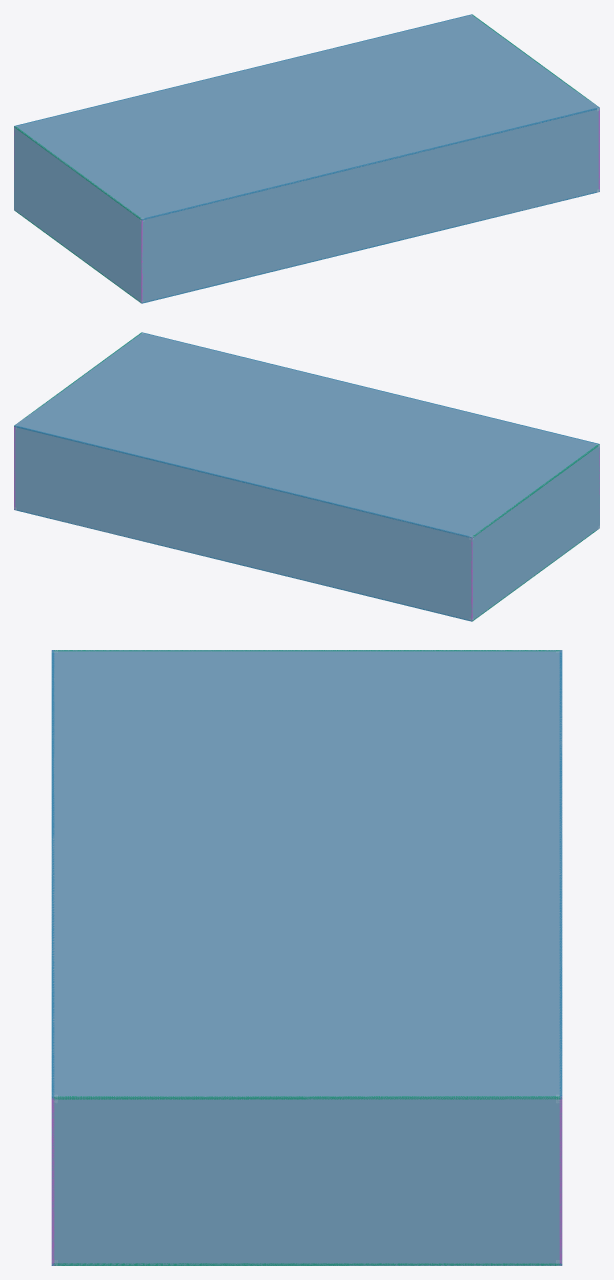
File: total-envelope-total-gpu-msi-geforce-gtx-1080-ti-gaming-x-11g.glb
The picture shows the model from 3 angles, top to bottom: view 1: azimuth 30°, elevation 25°; view 2: azimuth 150°, elevation 25°; view 3: azimuth 270°, elevation 25°; orthographic projection. The views are drawn at different scales.
Visible parts, largest first — view 1: Published outer envelope — not a surface-accurate model, Length guide (×3); view 2: Published outer envelope — not a surface-accurate model, Length guide (×3); view 3: Published outer envelope — not a surface-accurate model, Height guide (×3), Length guide (×2).
Part boxes in pixels (<box>): Published outer envelope — not a surface-accurate model: <box>14,15,599,302</box>; Length guide (×3): <box>14,14,599,303</box>; Published outer envelope — not a surface-accurate model: <box>14,333,599,620</box>; Length guide (×3): <box>14,332,598,621</box>; Published outer envelope — not a surface-accurate model: <box>51,650,562,1265</box>; Height guide (×3): <box>54,650,561,1265</box>; Length guide (×2): <box>51,650,562,1099</box>.
Bounding box in the file's own units: 0.29 × 0.051 × 0.14.
